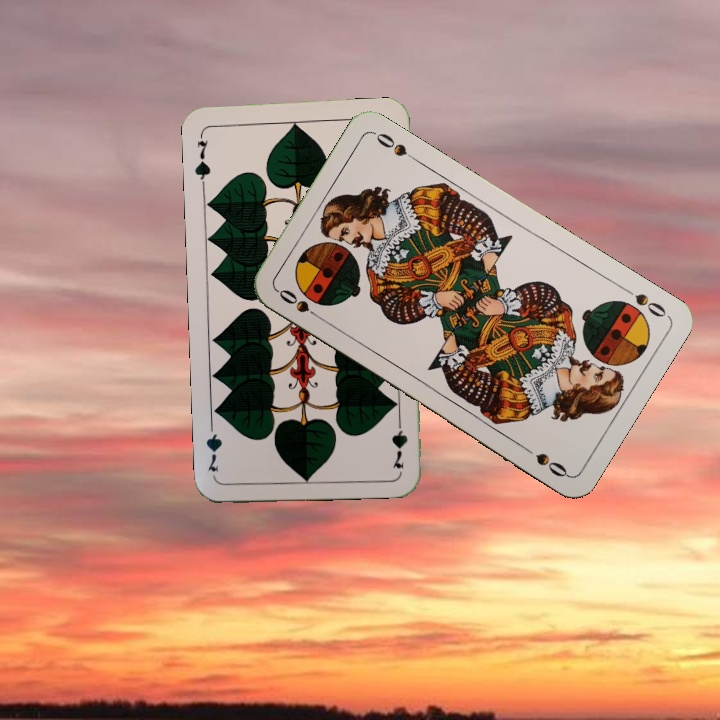G7: (387, 412, 411, 471), (191, 129, 213, 188)
SO: (273, 285, 326, 324), (617, 282, 669, 321)
